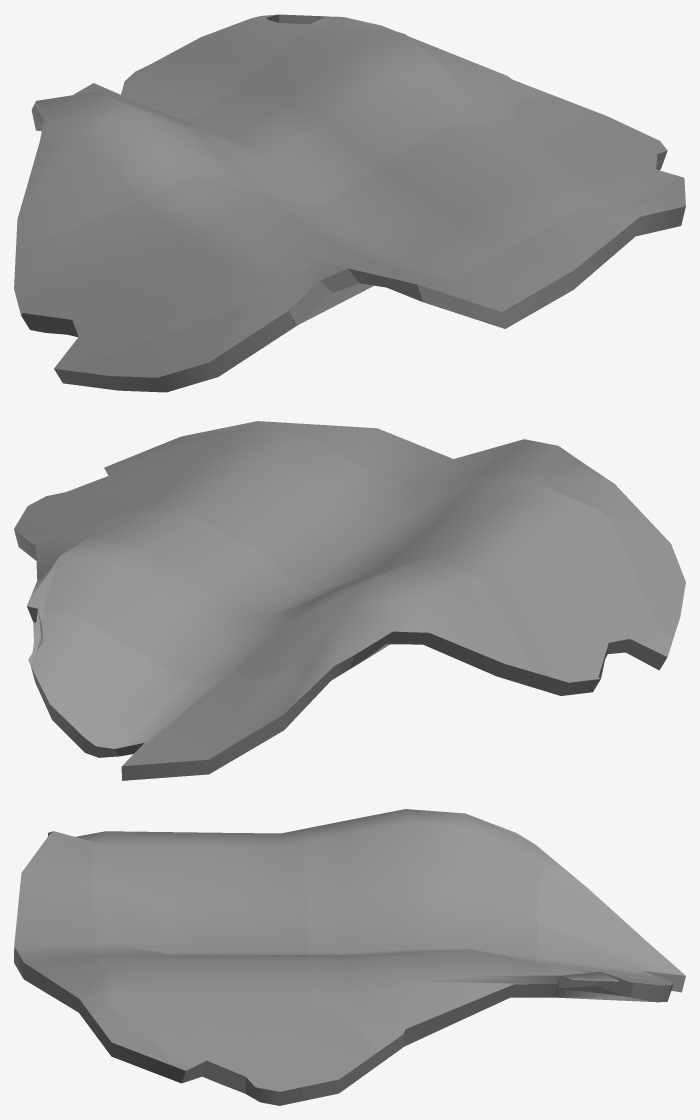
File: BasicLeaf_Grey.obj
3 renders of one model, top to bottom at view 1: azimuth 30°, elevation 25°; view 2: azimuth 150°, elevation 25°; view 3: azimuth 270°, elevation 25°, orthographic. The views are drawn at different scales.
Visible parts, largest first — view 1: BasicLeaf_Grey; view 2: BasicLeaf_Grey; view 3: BasicLeaf_Grey.
Part boxes in pixels (bbox=[...]): BasicLeaf_Grey: bbox=[14, 14, 685, 392]; BasicLeaf_Grey: bbox=[14, 421, 685, 780]; BasicLeaf_Grey: bbox=[14, 809, 685, 1105].
Bounding box in the file's own units: 6.78 × 1.4 × 6.94.
